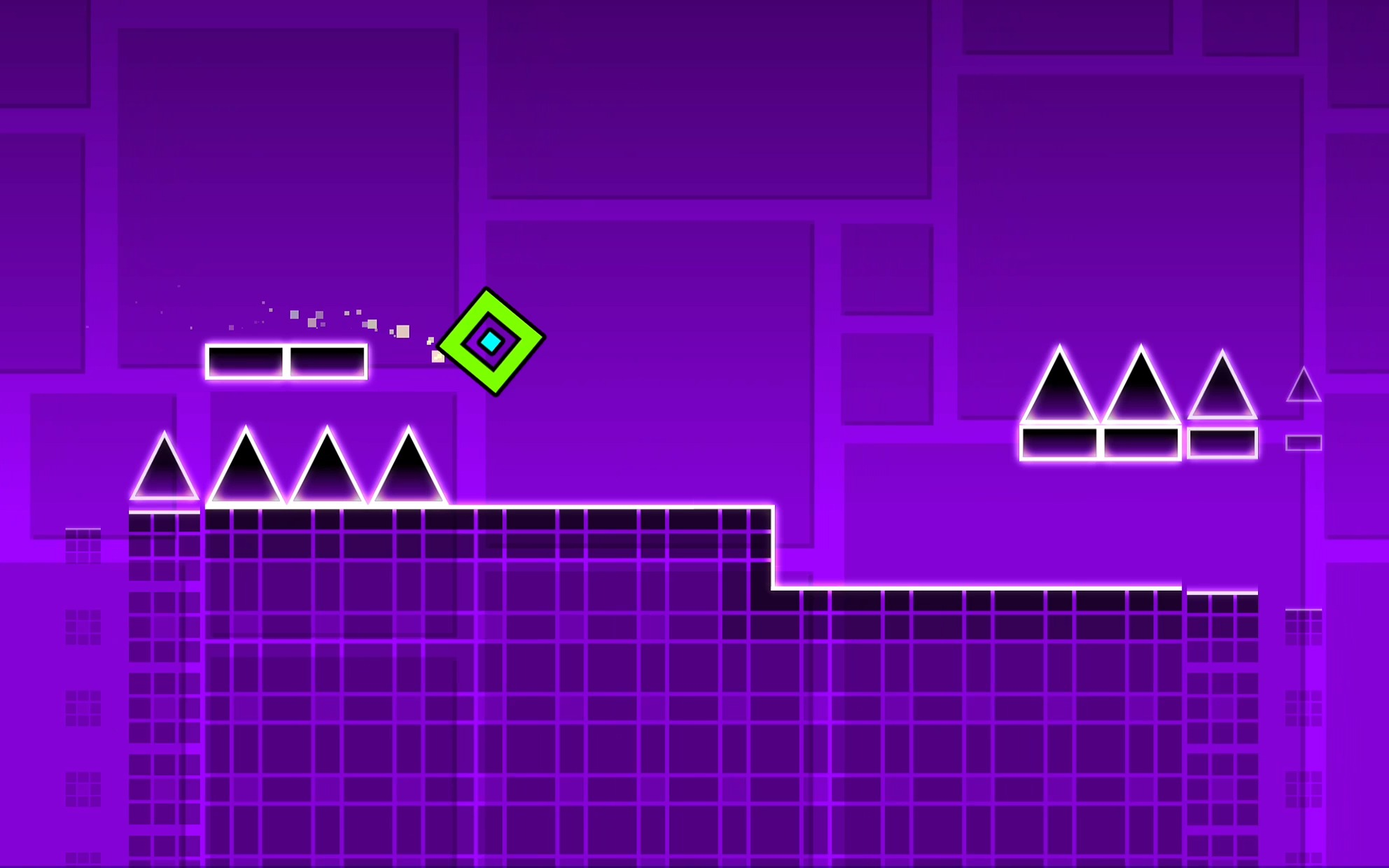Block2: (120, 508, 774, 867), (773, 584, 1331, 868)
Block3: (200, 343, 369, 381), (1007, 424, 1180, 458)
Player: (435, 286, 544, 392)
Spike: (1104, 344, 1178, 421), (372, 426, 446, 502), (208, 426, 281, 503), (1022, 345, 1096, 420), (291, 426, 363, 502), (1187, 349, 1254, 419), (131, 432, 198, 498), (1286, 366, 1321, 401)
